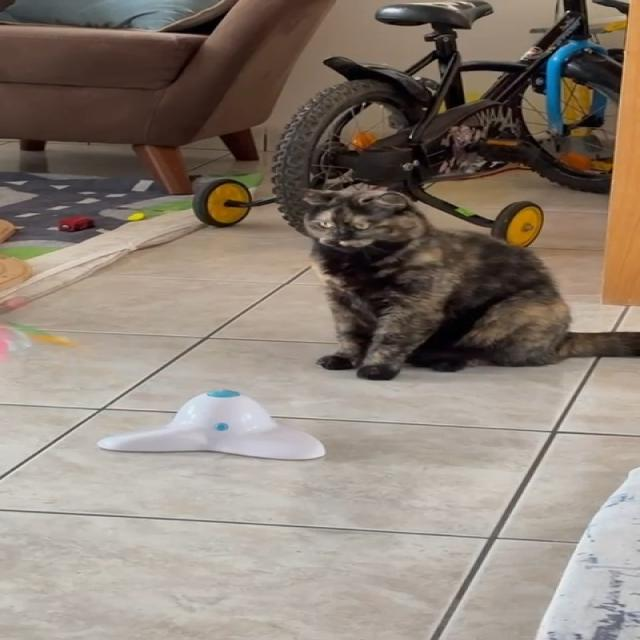authorized: (294, 187, 638, 380)
